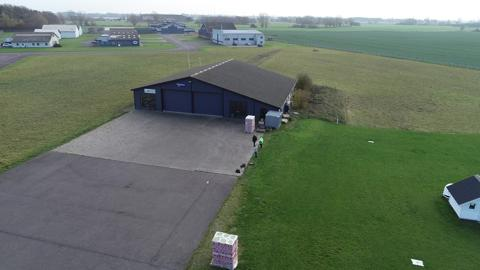RockwoolPallet: (245, 115, 256, 133)
